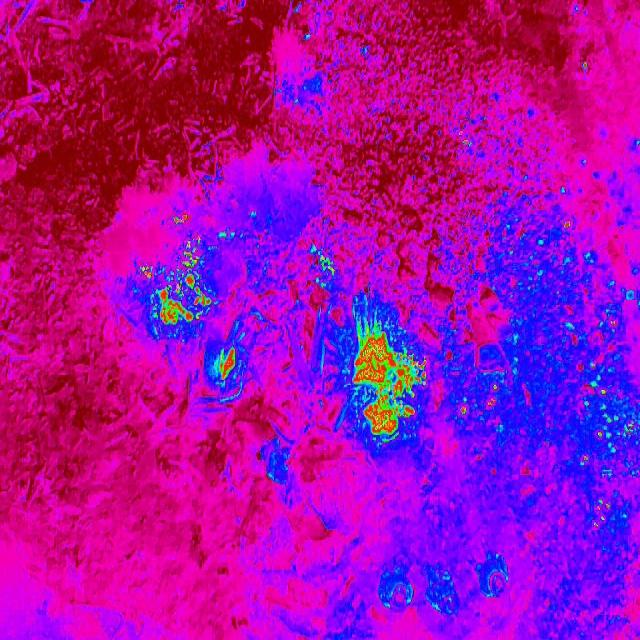fire: (570, 314, 640, 528), (351, 326, 426, 440), (140, 234, 215, 327), (455, 377, 503, 419), (213, 348, 240, 382), (313, 254, 337, 278), (558, 217, 582, 238), (170, 212, 188, 228), (580, 58, 592, 74)
